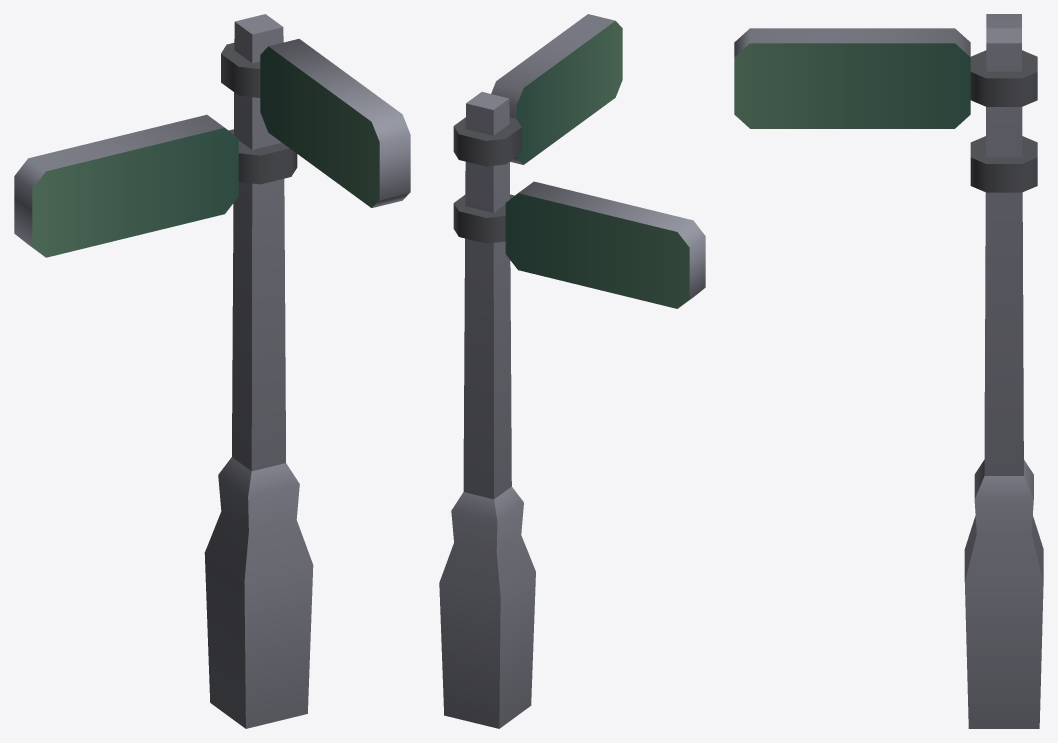
The model's file is sign_street.glb.
The picture shows the model from 3 angles, left to right: view 1: azimuth 30°, elevation 25°; view 2: azimuth 150°, elevation 25°; view 3: azimuth 270°, elevation 25°; orthographic projection. The views are drawn at different scales.
Visible parts, largest first — view 1: road-sign-street; view 2: road-sign-street; view 3: road-sign-street.
Part boxes in pixels (x1,y1,x2,y2): road-sign-street: (14, 14, 410, 728); road-sign-street: (439, 14, 705, 728); road-sign-street: (734, 14, 1043, 728).
Size of the model in its own units: 1.57 by 3.8 by 1.57.
Materials: 1 (1 with a texture image).
